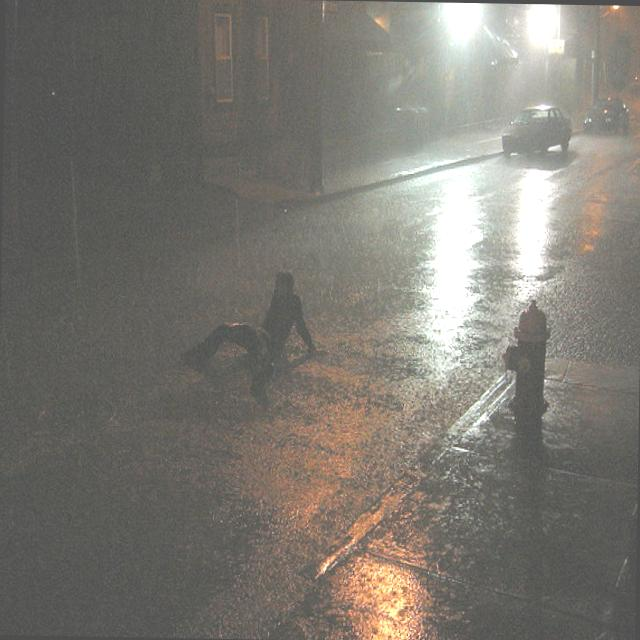Vehicle: (501, 106, 574, 160), (584, 97, 630, 133)
